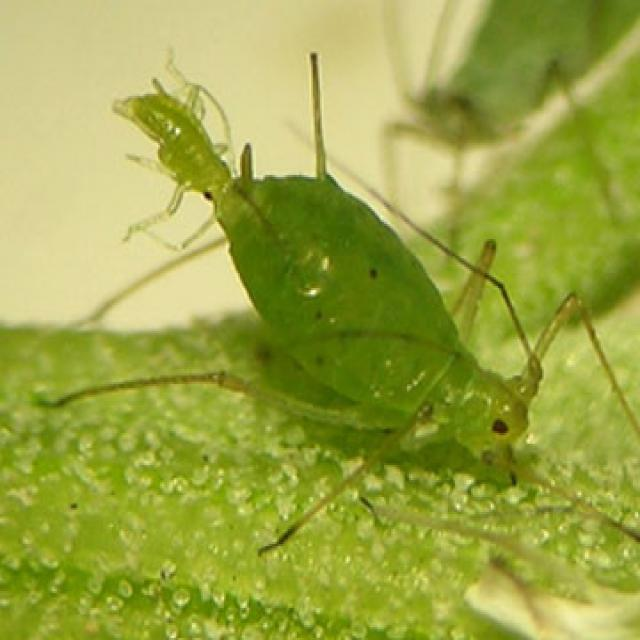Aphid-Grown-: (210, 39, 582, 488)
